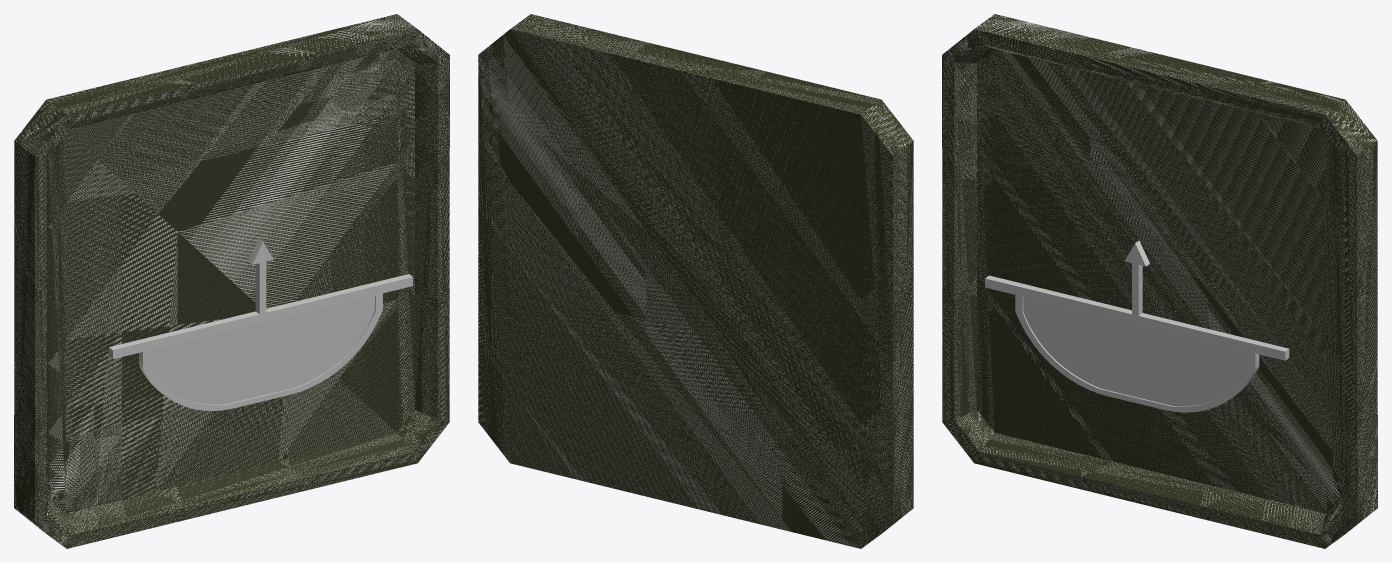
File: CM_-_Support.obj
3 renders of one model, left to right at view 1: azimuth 30°, elevation 25°; view 2: azimuth 150°, elevation 25°; view 3: azimuth 330°, elevation 25°, orthographic.
Parts seen in each view (by area): view 1: Button.001_ID13, Button_ID3, SM_CM_-_Support_mesh.028; view 2: Button_ID3; view 3: Button.001_ID13, Button_ID3, SM_CM_-_Support_mesh.028.
Boxes of the visible parts, left/top/right/bottom form: Button.001_ID13: left=47, top=43, right=437, bottom=534; Button_ID3: left=14, top=14, right=449, bottom=548; SM_CM_-_Support_mesh.028: left=109, top=239, right=412, bottom=410; Button_ID3: left=478, top=14, right=913, bottom=548; Button.001_ID13: left=954, top=43, right=1344, bottom=534; Button_ID3: left=942, top=14, right=1377, bottom=548; SM_CM_-_Support_mesh.028: left=985, top=240, right=1289, bottom=412.
Size of the model in its own units: 1 by 1 by 0.1598.
